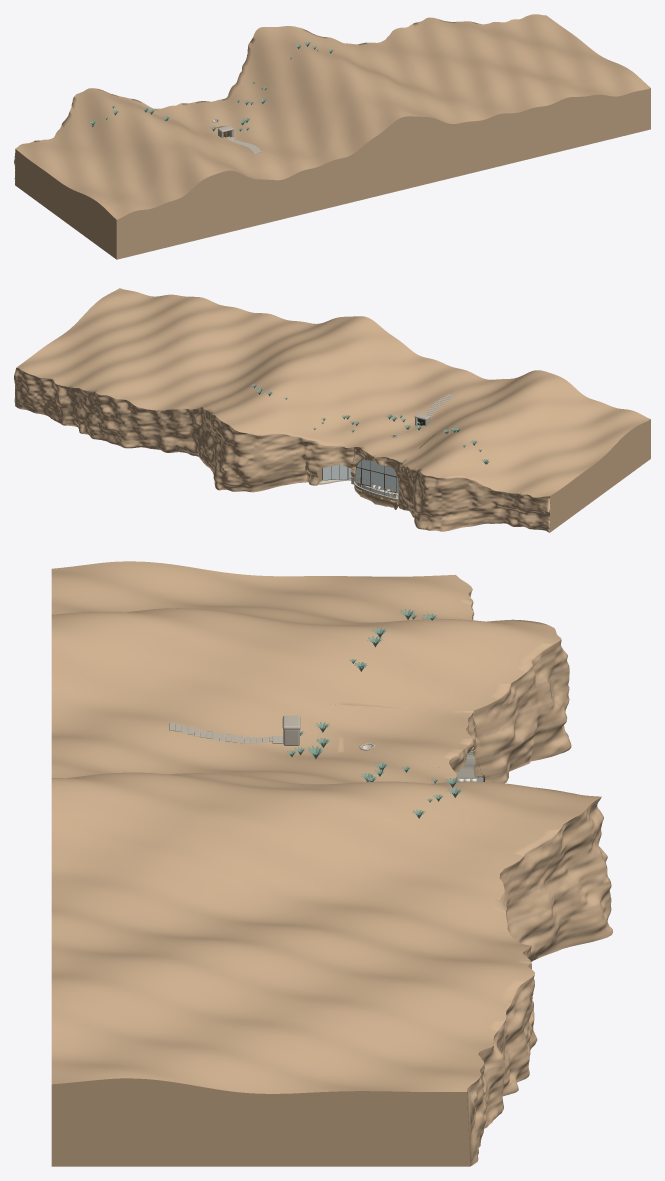
Rendered from home-shell.glb.
3 renders of one model, top to bottom at view 1: azimuth 30°, elevation 25°; view 2: azimuth 150°, elevation 25°; view 3: azimuth 270°, elevation 25°, orthographic. The views are drawn at different scales.
Visible parts, largest first — view 1: core__golden coastal sandstone, core_liftaway_cave_ceiling, core__blue sage agave leaf; view 2: core__golden coastal sandstone, core_liftaway_cave_ceiling, core_facade__facade_low-iron_glass, core__blue sage agave leaf, core_facade__golden_coastal_sandstone, core_liftaway_cave_ceiling_rear, core_gym_front_glass; view 3: core__golden coastal sandstone, core_liftaway_cave_ceiling, core__blue sage agave leaf, core__warm cut stone, core_liftaway_cave_ceiling_rear.
Boxes of the visible parts, left/top/right/bottom form: core__golden coastal sandstone: left=14, top=14, right=650, bottom=259; core_liftaway_cave_ceiling: left=156, top=101, right=241, bottom=130; core__blue sage agave leaf: left=89, top=42, right=333, bottom=133; core__golden coastal sandstone: left=14, top=288, right=650, bottom=532; core_liftaway_cave_ceiling: left=352, top=424, right=432, bottom=480; core_facade__facade_low-iron_glass: left=354, top=467, right=398, bottom=498; core__blue sage agave leaf: left=251, top=384, right=489, bottom=464; core_facade__golden_coastal_sandstone: left=354, top=484, right=398, bottom=509; core_liftaway_cave_ceiling_rear: left=381, top=419, right=439, bottom=437; core_gym_front_glass: left=323, top=465, right=351, bottom=479; core__golden coastal sandstone: left=51, top=561, right=612, bottom=1166; core_liftaway_cave_ceiling: left=343, top=705, right=480, bottom=772; core__blue sage agave leaf: left=287, top=609, right=462, bottom=818; core__warm cut stone: left=169, top=715, right=300, bottom=745; core_liftaway_cave_ceiling_rear: left=317, top=703, right=343, bottom=761.
Bounding box in the file's own units: 112 × 17.06 × 51.25.
